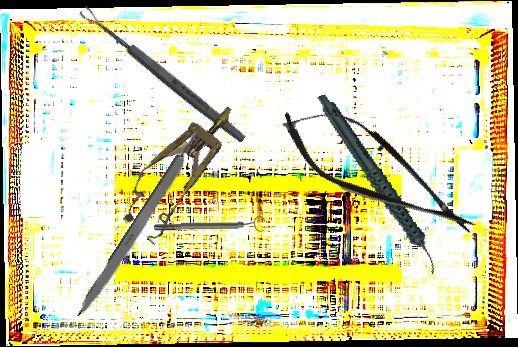Fixation Ring: (153, 216, 266, 235)
Handpiece: (315, 77, 441, 292)
Micro Scissor: (266, 85, 492, 259)
Scalpel Handle: (73, 129, 206, 322)
Speculum: (110, 89, 253, 247)
Surgical Spoon: (78, 3, 248, 146)
